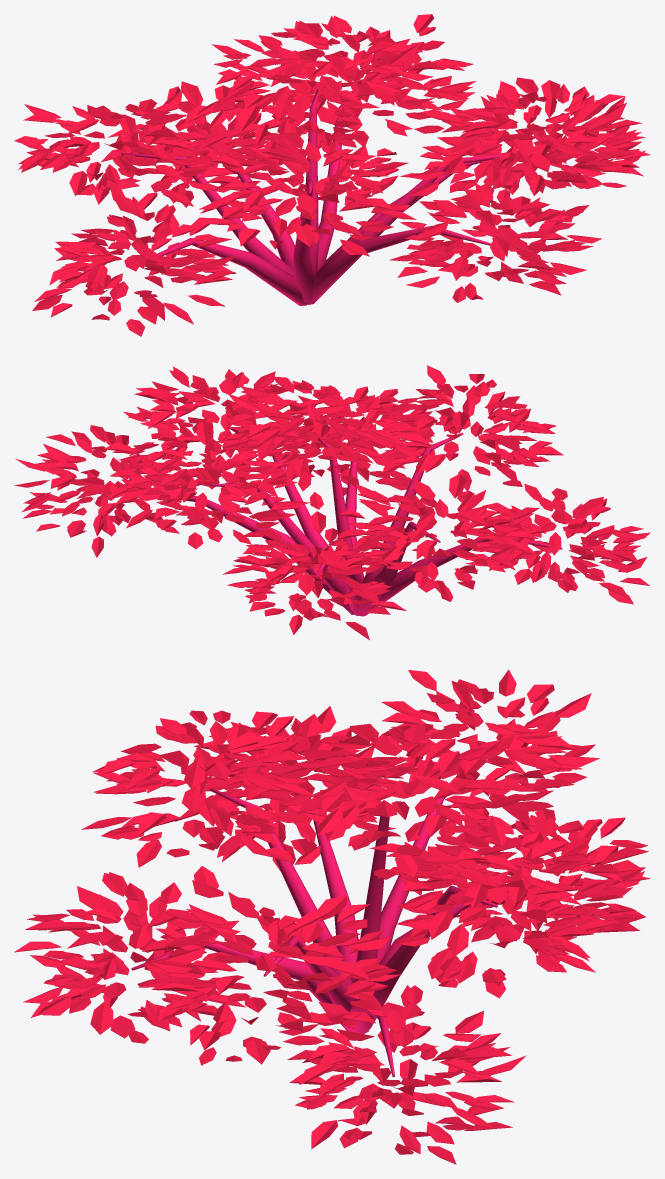
The model's file is SM_GardenBough.fbx.
The picture shows the model from 3 angles, top to bottom: view 1: azimuth 30°, elevation 25°; view 2: azimuth 150°, elevation 25°; view 3: azimuth 270°, elevation 25°; orthographic projection. The views are drawn at different scales.
Parts seen in each view (by area): view 1: SM_GardenBough; view 2: SM_GardenBough; view 3: SM_GardenBough.
Part boxes in pixels (x1,y1,x2,y2): SM_GardenBough: (14,14,650,336); SM_GardenBough: (14,365,650,640); SM_GardenBough: (14,669,650,1164).
Bounding box in the file's own units: 692 × 1001 × 359.
